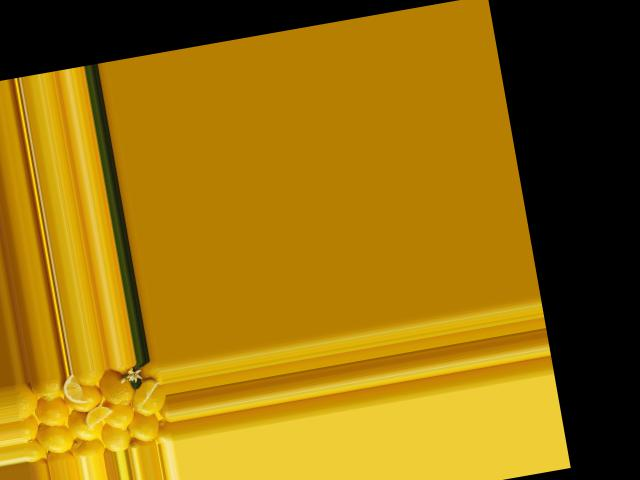lemon: (30, 375, 67, 408)
